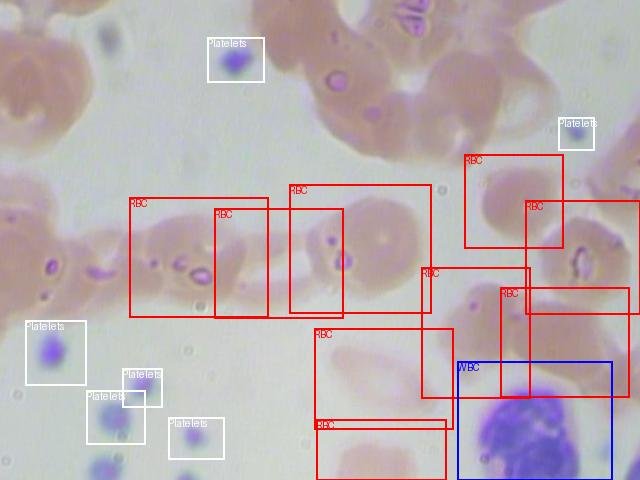Platelets: (25, 320, 86, 385), (86, 390, 145, 444), (207, 37, 264, 82), (168, 417, 224, 459), (122, 368, 162, 407), (558, 117, 594, 150)
RBC: (289, 184, 431, 313), (129, 197, 268, 317), (421, 267, 530, 398), (500, 287, 629, 397), (214, 208, 343, 318), (314, 328, 453, 429), (525, 200, 640, 314), (464, 154, 563, 248), (316, 419, 446, 480)
WBC: (457, 361, 612, 480)
